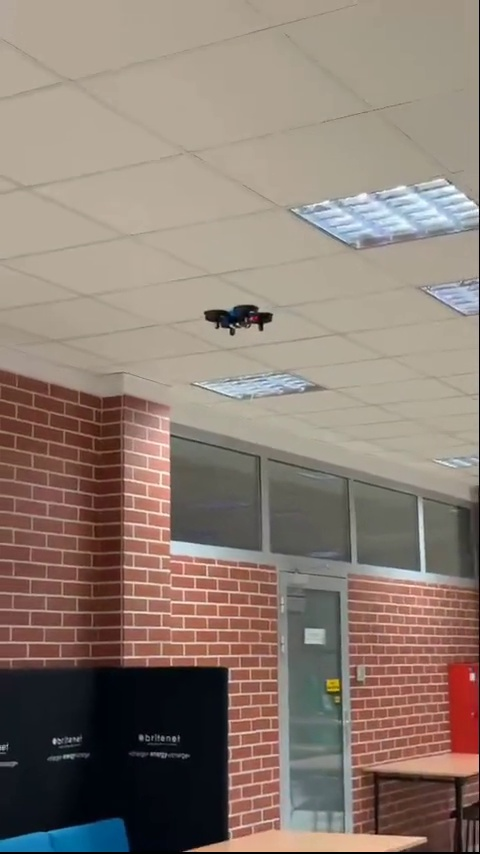drone: (201, 295, 278, 343)
